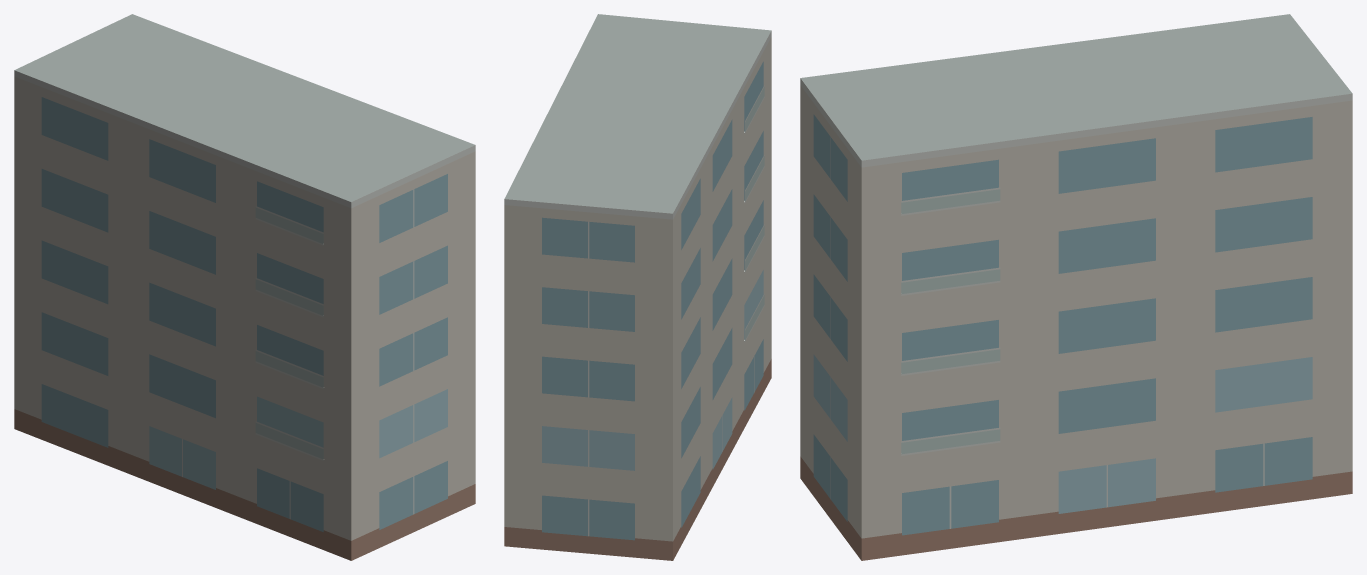
The model's file is survey-upis-33008418.glb.
3 views of the same model, side by side, from view 1: azimuth 30°, elevation 25°; view 2: azimuth 150°, elevation 25°; view 3: azimuth 270°, elevation 25° (orthographic). The views are drawn at different scales.
Parts seen in each view (by area): view 1: survey-upis-33008418.tmp; view 2: survey-upis-33008418.tmp; view 3: survey-upis-33008418.tmp.
Boxes of the visible parts, x1=… form: survey-upis-33008418.tmp: x1=14, y1=14, x2=475, y2=560; survey-upis-33008418.tmp: x1=504, y1=14, x2=771, y2=560; survey-upis-33008418.tmp: x1=800, y1=14, x2=1352, y2=560.
Bounding box in the file's own units: 11.17 × 14.2 × 17.77.
